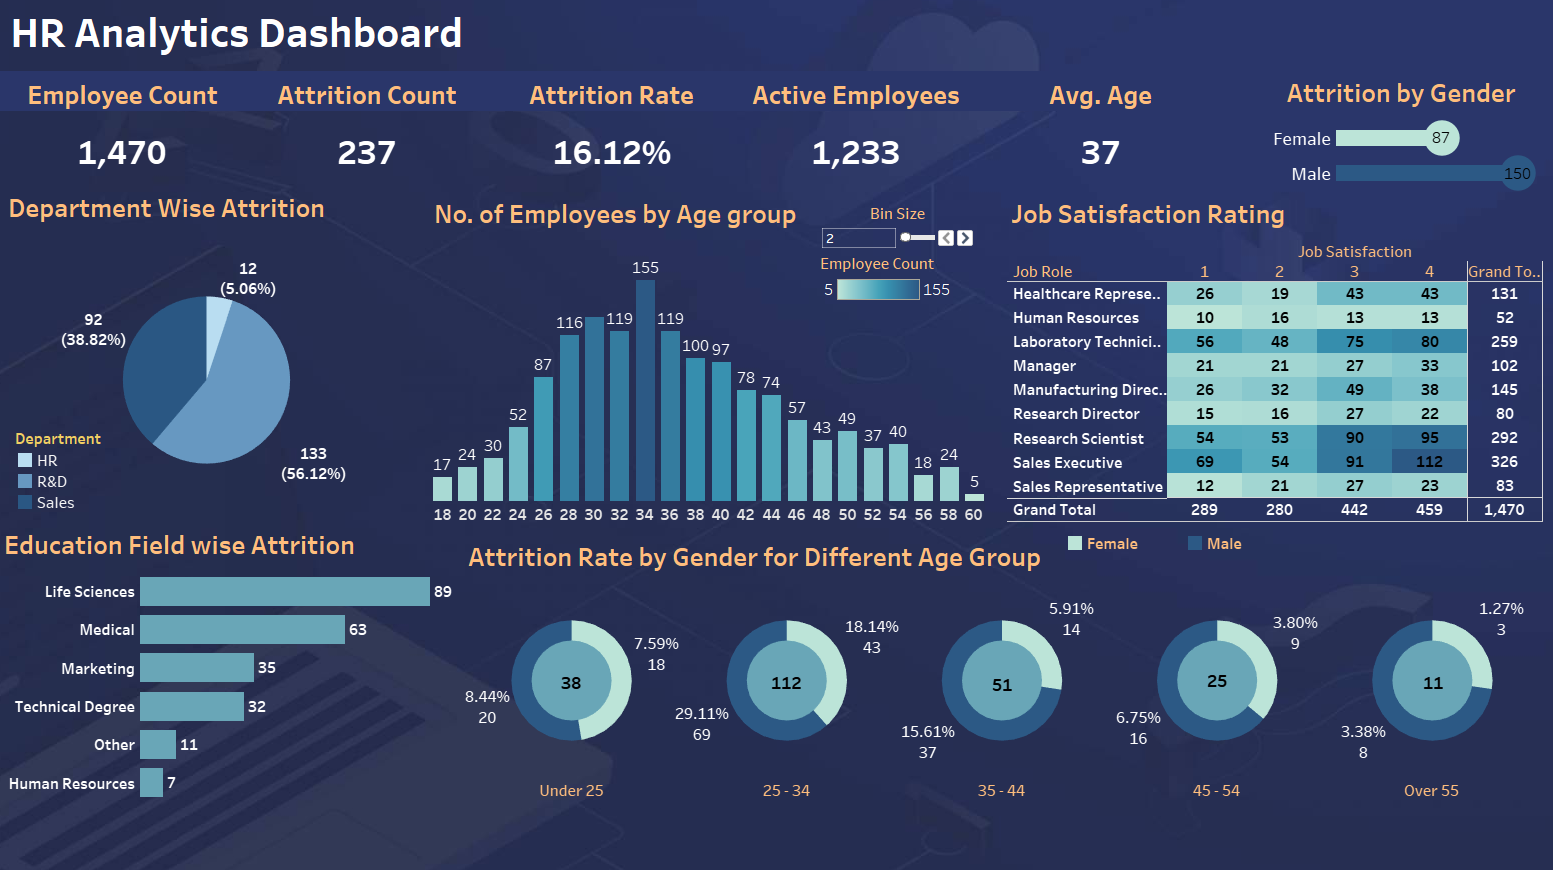

This screenshot's page, from the dashboard's own definition file:
{"tool":"tableau","page":{"name":"HR Analytics Dashboard","canvas":[1580,900],"ordinal":0},"visuals":[{"type":"image","param":"C:/Users/Asus/Downloads/main-slider-darkblue.7ad19a8c.jpg","box":[8,8,1564,884]},{"type":"text","box":[20,16,671,58]},{"type":"worksheet","title":"KPI","mark":"Automatic","box":[13,85,1223,119]},{"type":"worksheet","title":"Attrition by Gender","mark":"Automatic","rows":["Gender"],"cols":["Calculation_831758572829495298","Calculation_831758572829495298"],"box":[1269,85,290,120]},{"type":"worksheet","title":"Dept wise attrition","mark":"Pie","box":[17,200,405,339]},{"type":"worksheet","title":"No. of Employees by Age group","mark":"Automatic","rows":["Employee Count"],"cols":["Age (bin)"],"box":[443,206,557,334]},{"type":"worksheet","title":"Job Satisfaction Rating","mark":"Square","rows":["Job Role"],"cols":["Job Satisfaction"],"box":[1020,206,536,331]},{"type":"parameter","param":"[Parameters].[Parameter 2]","box":[832,217,157,45]},{"type":"legend","title":"No. of Employees by Age group","param":"[federated.1mdnga30090v1m19larna1akaim0].[sum:Employee Count:qk]","box":[833,267,135,52]},{"type":"legend","title":"Dept wise attrition","param":"[federated.1mdnga30090v1m19larna1akaim0].[none:Department:nk]","box":[28,442,123,93]},{"type":"worksheet","title":"Education Field wise Attrition","mark":"Automatic","rows":["Education Field"],"cols":["Calculation_831758572829495298"],"box":[13,537,472,279]},{"type":"legend","title":"Attrition Rate by Gender for Different Age Group","param":"[federated.1mdnga30090v1m19larna1akaim0].[none:Gender:nk]","box":[1078,547,248,27]},{"type":"worksheet","title":"Attrition Rate by Gender for Different Age Group","mark":"Pie","rows":["Calculation_858780170952896513","Calculation_858780170952896513"],"cols":["CF_age band"],"box":[477,549,1076,267]}]}

Visuals, with their boxes in screenshot pixels (x1, y1, x2, y2), scaled from the page's 1580x900 canvas onto the 1553x870 screenshot:
image: detection(8, 8, 1545, 862)
text: detection(20, 15, 679, 72)
"KPI" worksheet: detection(13, 82, 1215, 197)
"Attrition by Gender" worksheet: detection(1247, 82, 1532, 198)
"Dept wise attrition" worksheet (Pie marks): detection(17, 193, 415, 521)
"No. of Employees by Age group" worksheet: detection(435, 199, 983, 522)
"Job Satisfaction Rating" worksheet (Square marks): detection(1003, 199, 1529, 519)
parameter: detection(818, 210, 972, 253)
"No. of Employees by Age group" legend: detection(819, 258, 951, 308)
"Dept wise attrition" legend: detection(28, 427, 148, 517)
"Education Field wise Attrition" worksheet: detection(13, 519, 477, 789)
"Attrition Rate by Gender for Different Age Group" legend: detection(1060, 529, 1303, 555)
"Attrition Rate by Gender for Different Age Group" worksheet (Pie marks): detection(469, 531, 1526, 789)
